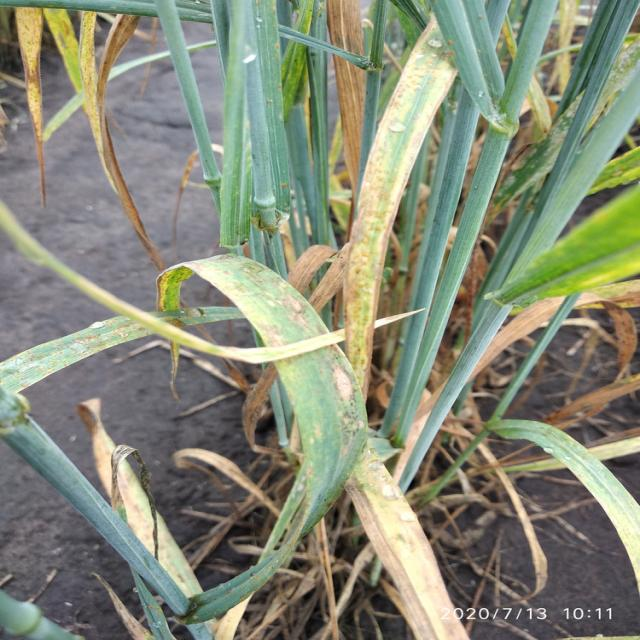wheat-septoria: (347, 78, 456, 360), (155, 254, 329, 348), (0, 316, 152, 421), (272, 344, 368, 473)
